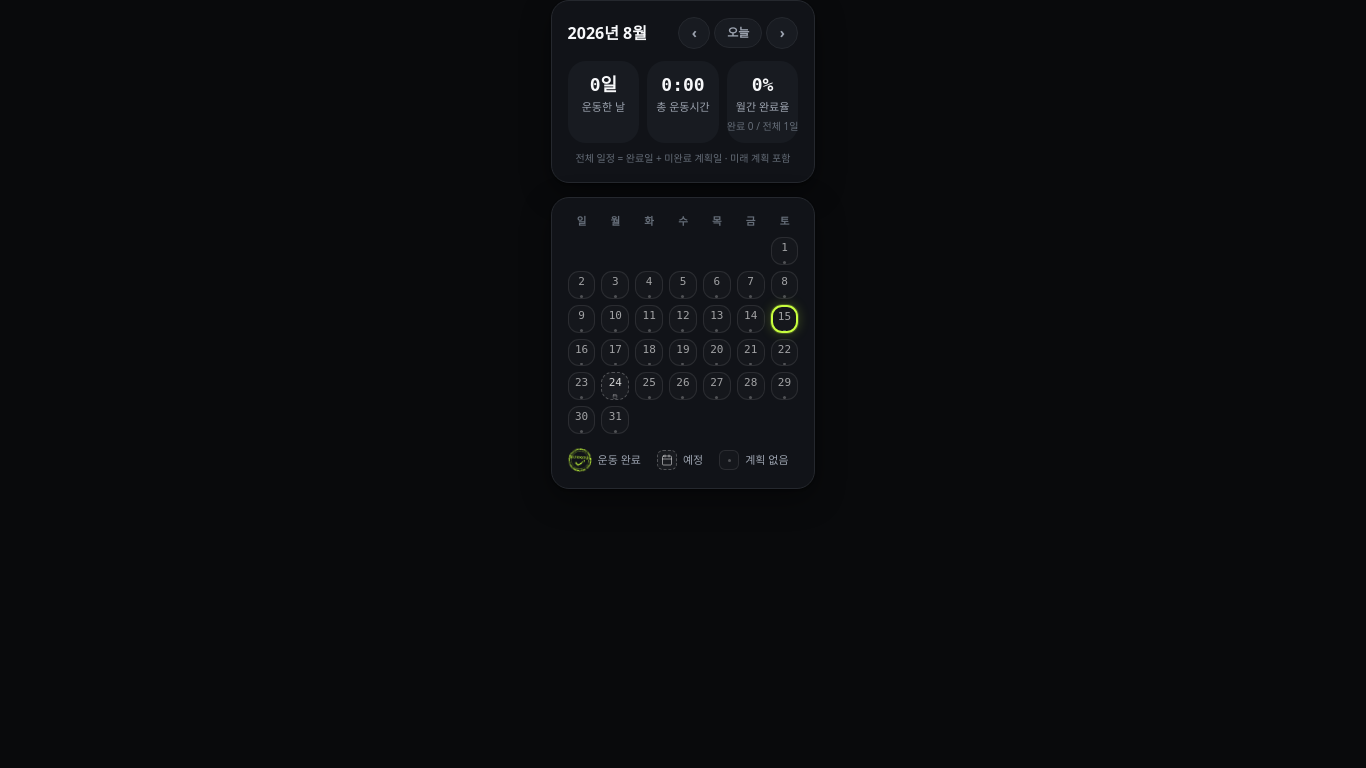
it: CalendarView — 프로그램 진행 표시 (2026-08-12) › 프로그램 계획에 프로그램명과 주차·회차 기호를 보여준다
Expected: the heading "2026년 8월" is shown, [568,21,647,45]
Click the button named "8월 24일," at (615, 386), box [601,372,629,400]
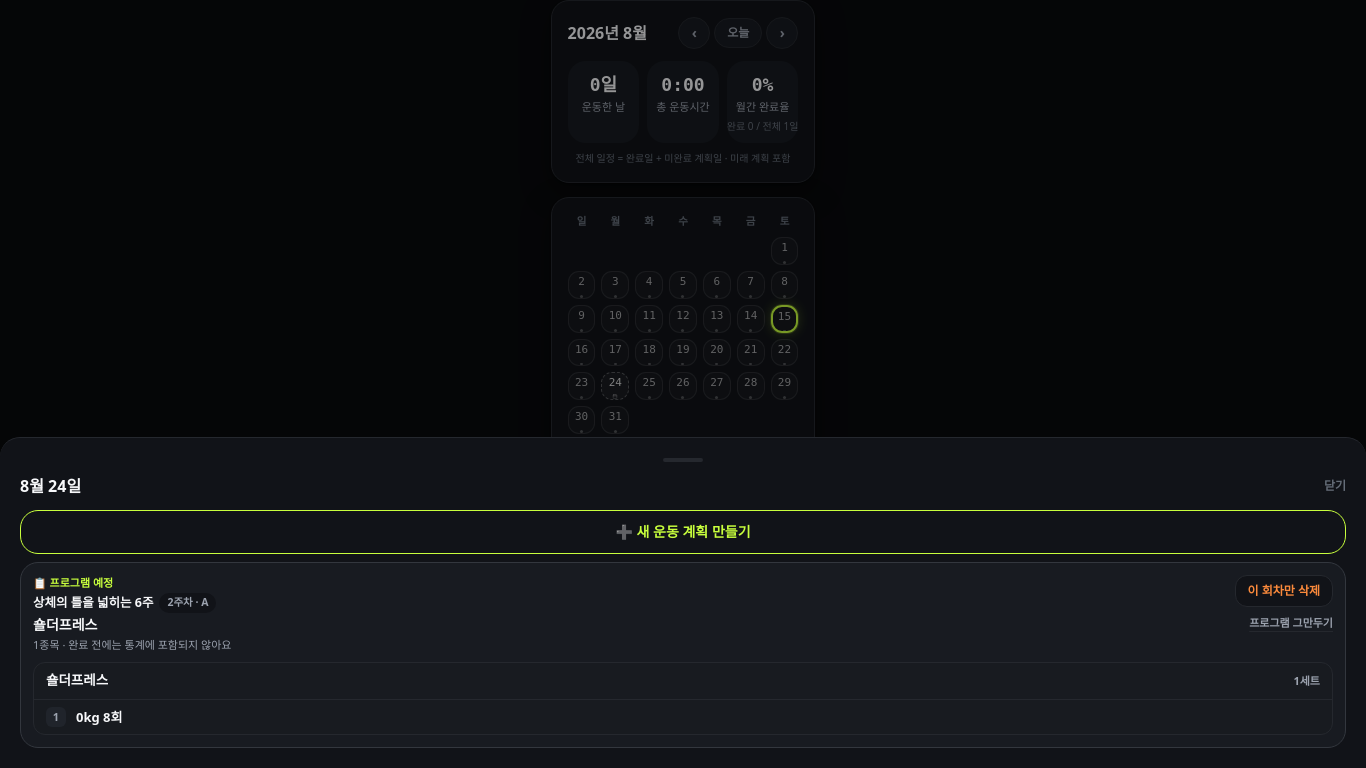
Result: the text "상체의 틀을 넓히는 6주" is shown at [33,594,153,612]
Result: the text "2주차 · A" is shown at [159,593,216,612]
